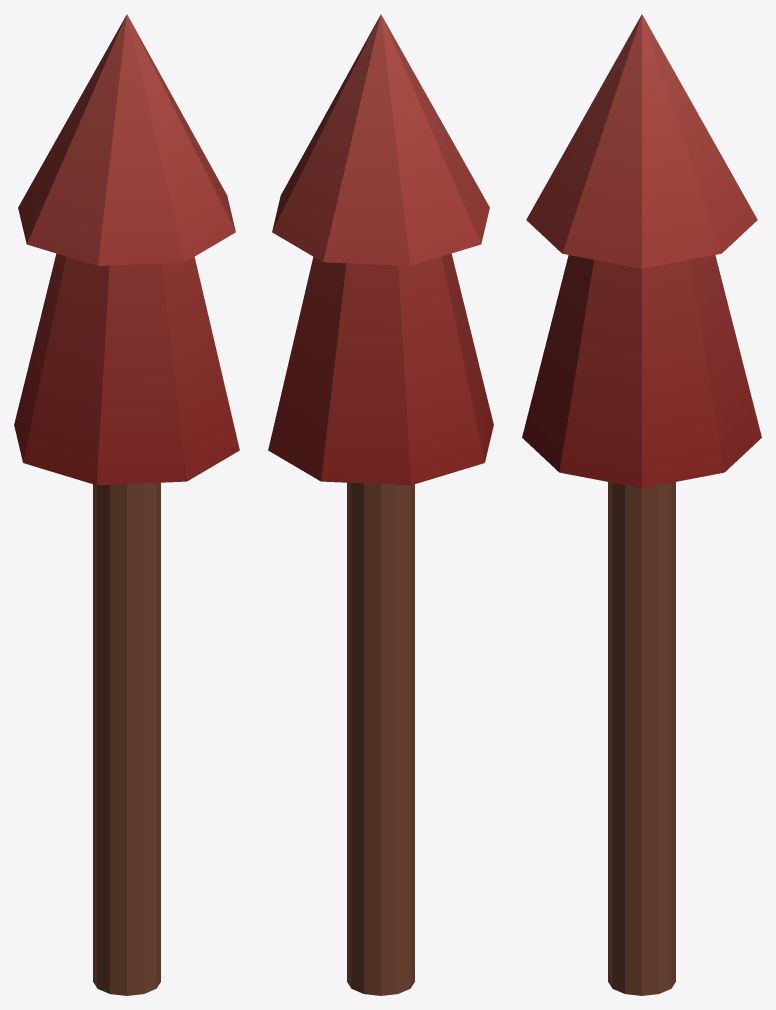
File: Tree_21_gradient_red_vc.fbx
3 renders of one model, left to right at view 1: azimuth 30°, elevation 25°; view 2: azimuth 150°, elevation 25°; view 3: azimuth 270°, elevation 25°, orthographic.
Parts seen in each view (by area): view 1: Tree_21_gradient_red_vc; view 2: Tree_21_gradient_red_vc; view 3: Tree_21_gradient_red_vc.
Boxes of the visible parts, x1,y1,x2,y2 form: Tree_21_gradient_red_vc: (14, 14, 239, 995); Tree_21_gradient_red_vc: (268, 14, 493, 995); Tree_21_gradient_red_vc: (522, 14, 761, 995).
Size of the model in its own units: 77.92 by 347 by 77.92.
